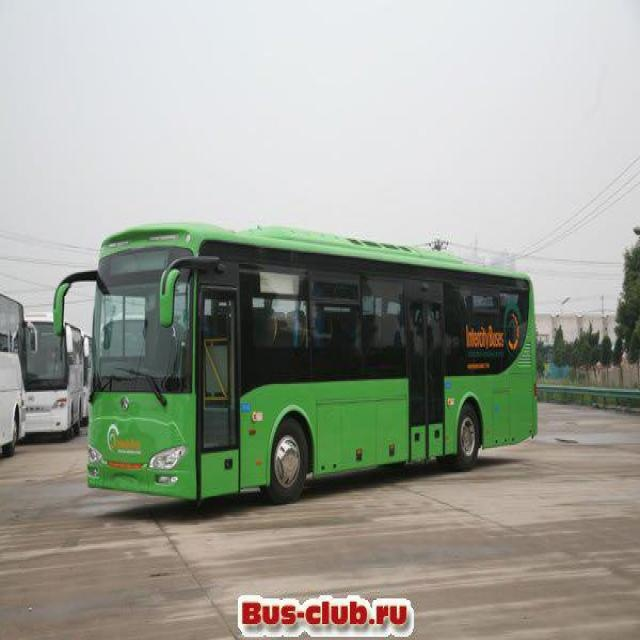Bus: (52, 212, 543, 506)
